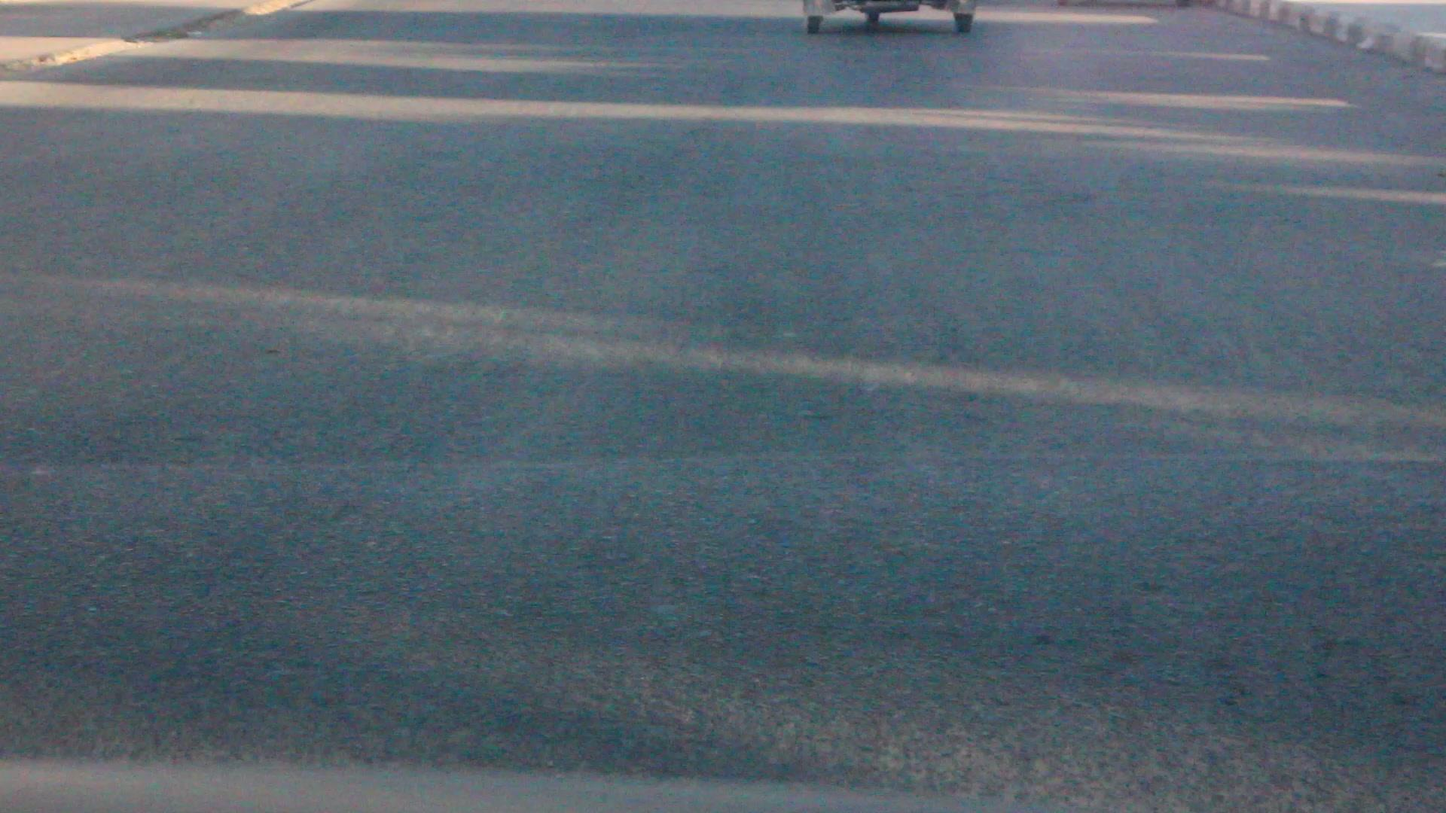Bump: (0, 464, 1445, 810)
